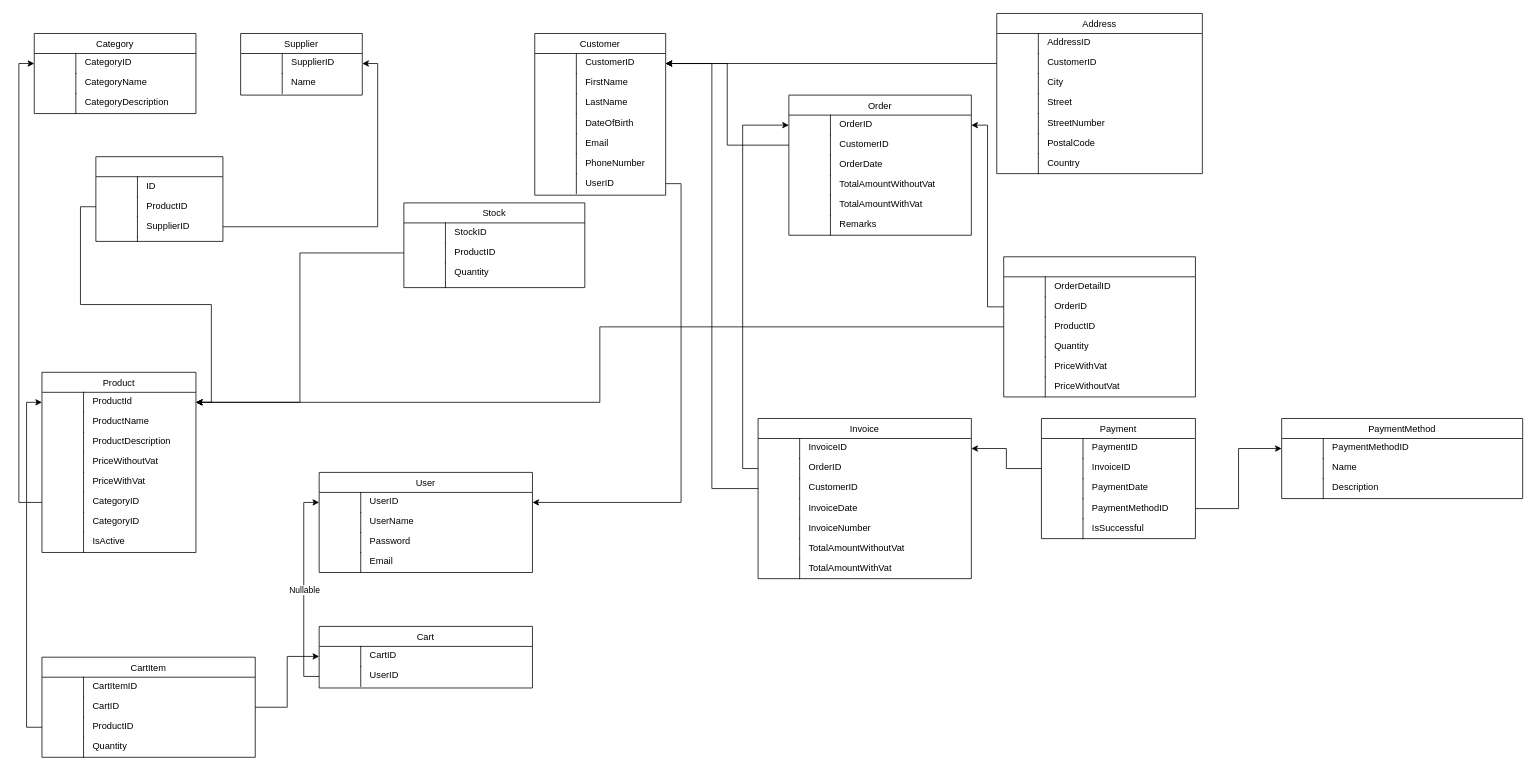
Image size: 1536x773. Some labels were removed from this diagram. The shapes that lost their labels are listed below. From the top down, each one's box as (x1, y1, x2, y2) in pixels, then its label:
(95, 156, 223, 241): ProductSupplier
(1003, 256, 1195, 397): OrderLine
